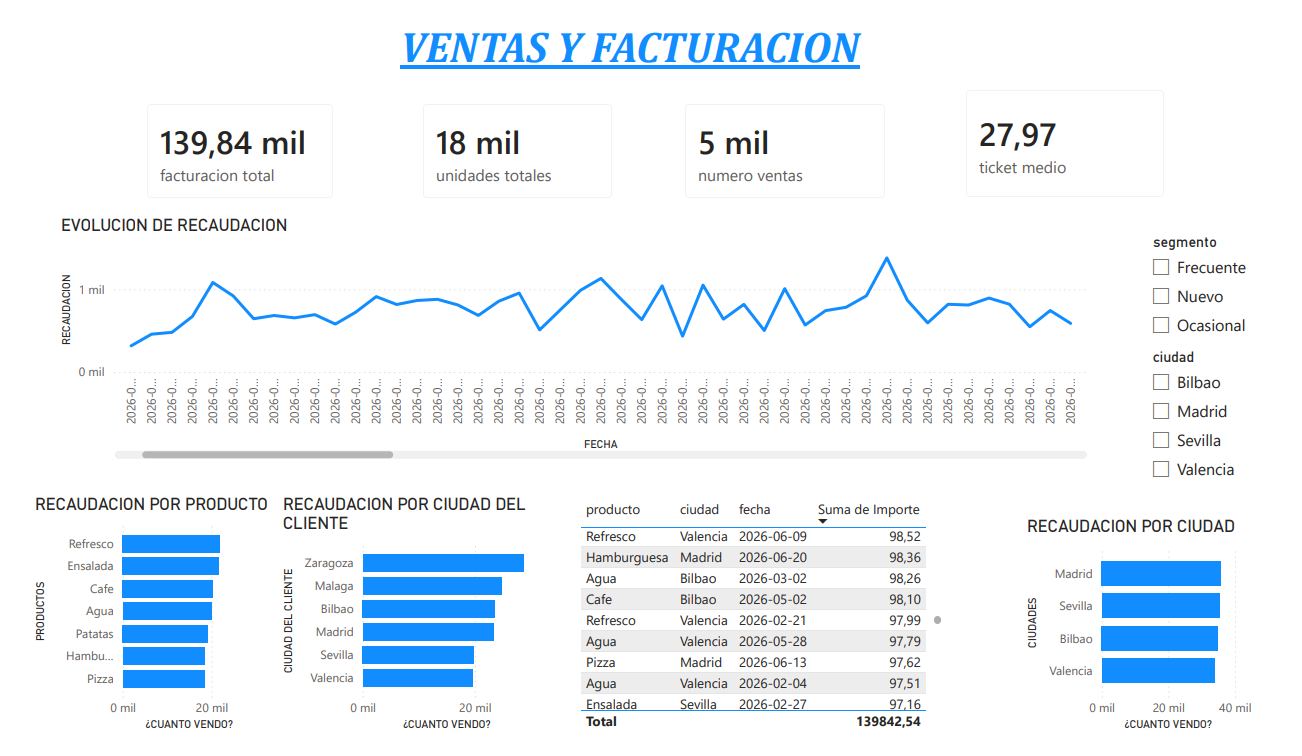

The page's visual inventory and layout, read from the dashboard file:
{"tool":"powerbi","page":{"name":"Página 1","canvas":[1280,720],"ordinal":0},"visuals":[{"type":"cardVisual","fields":{"Data":["ventas.facturacion total"]},"box":[108.8,70.9,220.1,128.4],"z":0},{"type":"cardVisual","fields":{"Data":["ventas.numero ventas"]},"box":[646.9,70.9,234.8,128.4],"z":1000},{"type":"cardVisual","fields":{"Data":["ventas.ticket medio"]},"box":[928.1,57.5,232.3,141.8],"z":2000},{"type":"cardVisual","fields":{"Data":["ventas.unidades totales"]},"box":[385.2,70.9,223.8,128.4],"z":3000},{"type":"slicer","fields":{"Values":["ventas.ciudad"]},"box":[1118.9,327.7,154.1,157.7],"z":4000},{"type":"clusteredBarChart","title":"RECAUDACION POR PRODUCTO","fields":{"Category":["ventas.producto"],"Y":["Sum(ventas.Importe)"]},"box":[8.6,478.1,248.2,242.1],"z":4001},{"type":"clusteredBarChart","title":"RECAUDACION POR CIUDAD","fields":{"Category":["ventas.ciudad"],"Y":["Sum(ventas.Importe)"]},"box":[1001.5,500.1,234.8,220.1],"z":4002},{"type":"lineChart","title":"EVOLUCION DE RECAUDACION","fields":{"Category":["ventas.fecha"],"Y":["Sum(ventas.Importe)"]},"box":[35.5,199.3,1035.7,248.2],"z":4003},{"type":"tableEx","fields":{"Values":["ventas.producto","ventas.ciudad","ventas.fecha","Sum(ventas.Importe)"]},"box":[553.9,478.1,371.7,242.1],"z":4004},{"type":"slicer","fields":{"Values":["clientes.segmento"]},"box":[1118.9,212.8,151.6,114.9],"z":4005},{"type":"clusteredBarChart","title":"RECAUDACION POR CIUDAD DEL CLIENTE","fields":{"Category":["clientes.ciudad_cliente"],"Y":["Sum(ventas.Importe)"]},"box":[256.8,478.1,275.1,242.1],"z":4006},{"type":"textbox","box":[316.7,0,584.5,80.7],"z":4007}]}

Visuals, with their boxes on the page's 1280x720 design canvas (x1, y1, x2, y2). These are canvas units, not pixel positions in the 1302x756 screenshot, which may show the page scaled, cropped or inside an application window:
cardVisual - ventas.facturacion total: detection(109, 71, 329, 199)
cardVisual - ventas.numero ventas: detection(647, 71, 882, 199)
cardVisual - ventas.ticket medio: detection(928, 58, 1160, 199)
cardVisual - ventas.unidades totales: detection(385, 71, 609, 199)
slicer - ventas.ciudad: detection(1119, 328, 1273, 485)
"RECAUDACION POR PRODUCTO" clusteredBarChart: detection(9, 478, 257, 720)
"RECAUDACION POR CIUDAD" clusteredBarChart: detection(1002, 500, 1236, 720)
"EVOLUCION DE RECAUDACION" lineChart: detection(36, 199, 1071, 448)
tableEx - ventas.producto x ventas.ciudad: detection(554, 478, 926, 720)
slicer - clientes.segmento: detection(1119, 213, 1270, 328)
"RECAUDACION POR CIUDAD DEL CLIENTE" clusteredBarChart: detection(257, 478, 532, 720)
textbox: detection(317, 0, 901, 81)
